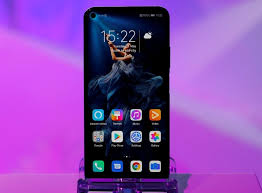huawei: (80, 5, 172, 181)
